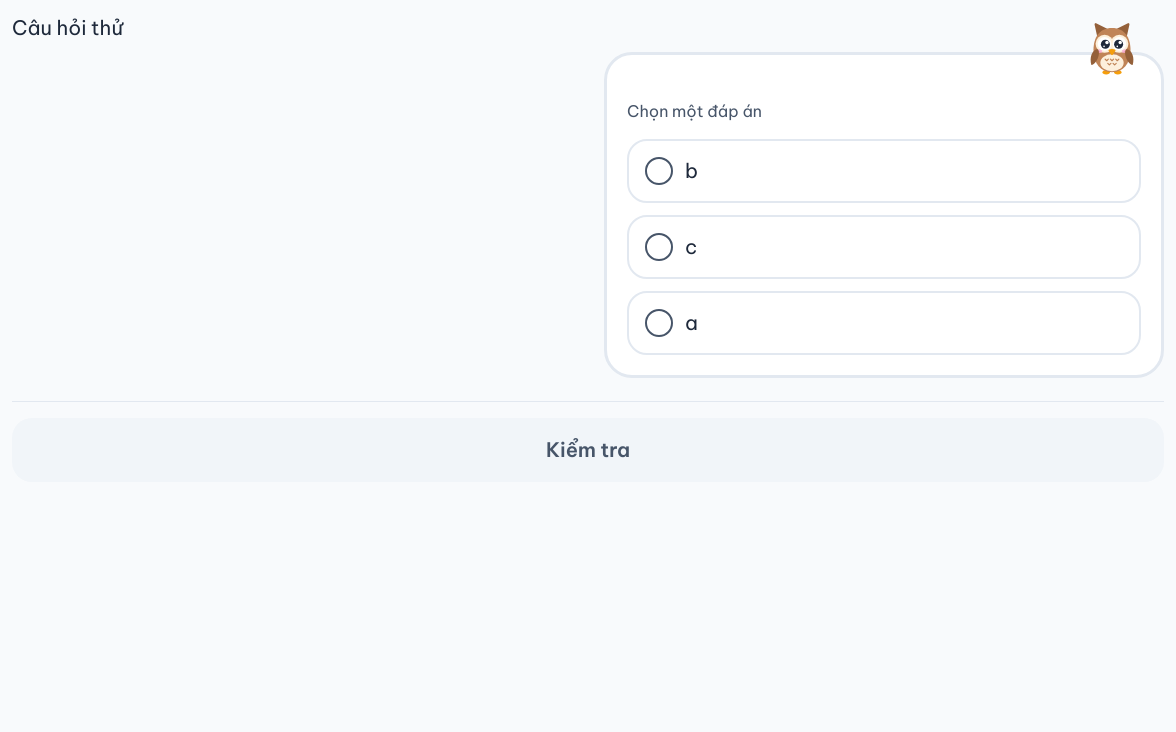
Scenario: explanation panel › falls back to the accepted answer for an exercise without explain
Click the button "a".
click(659, 323)  # box [627,291,1141,355]
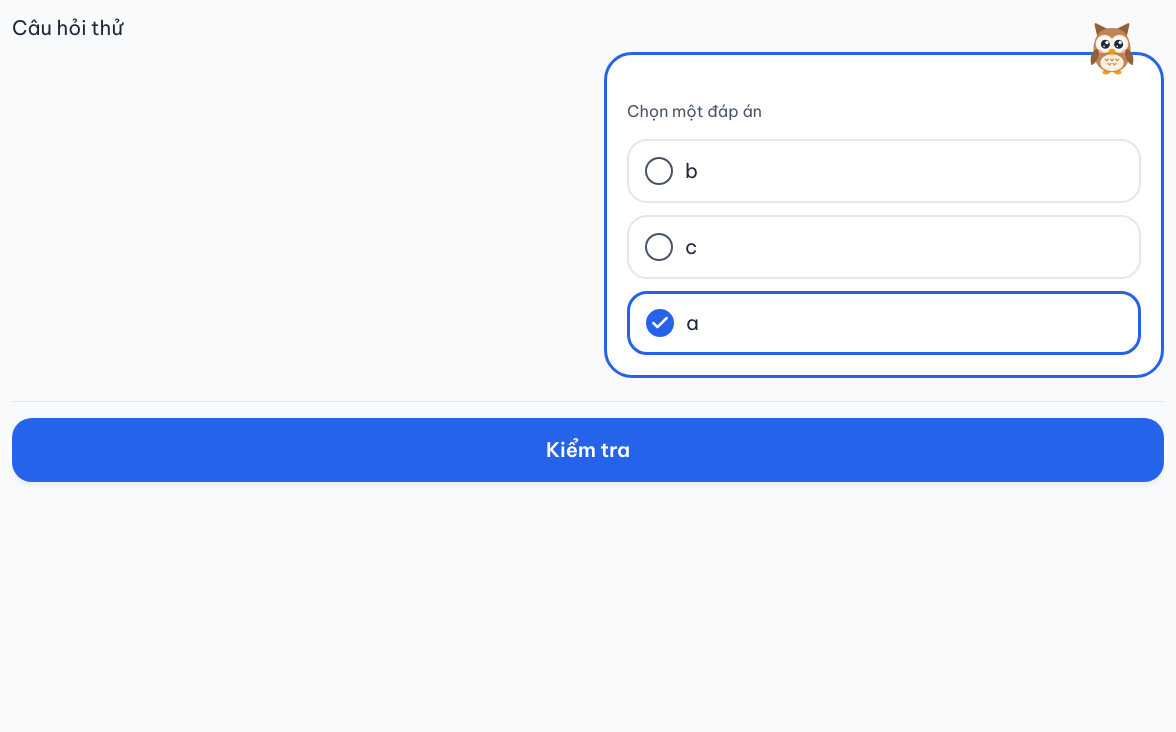
Click the button "Kiểm tra".
click(588, 450)  # box [12,418,1164,482]
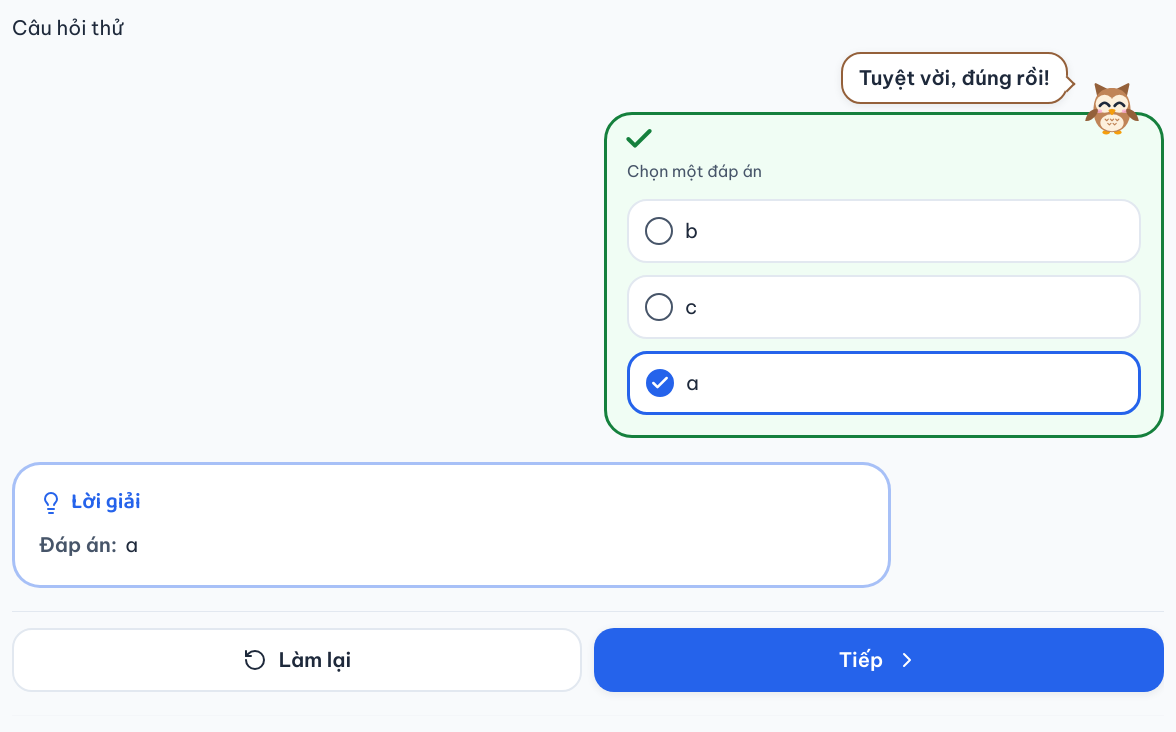
Check: the element "Lời giải" shows "Đáp án:", box [39,532,117,556]
